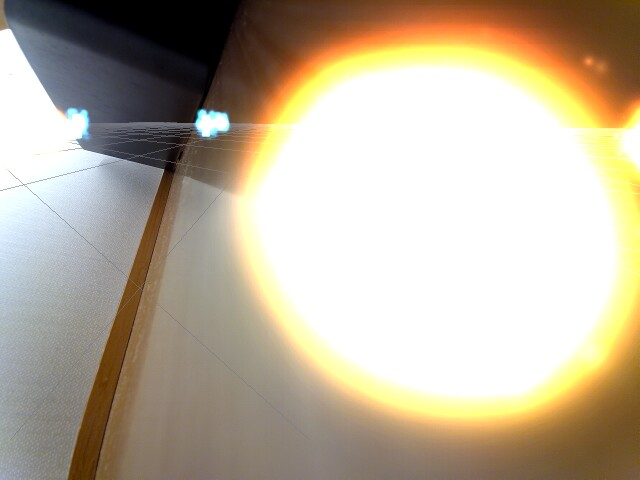firebig: (236, 34, 621, 437)
